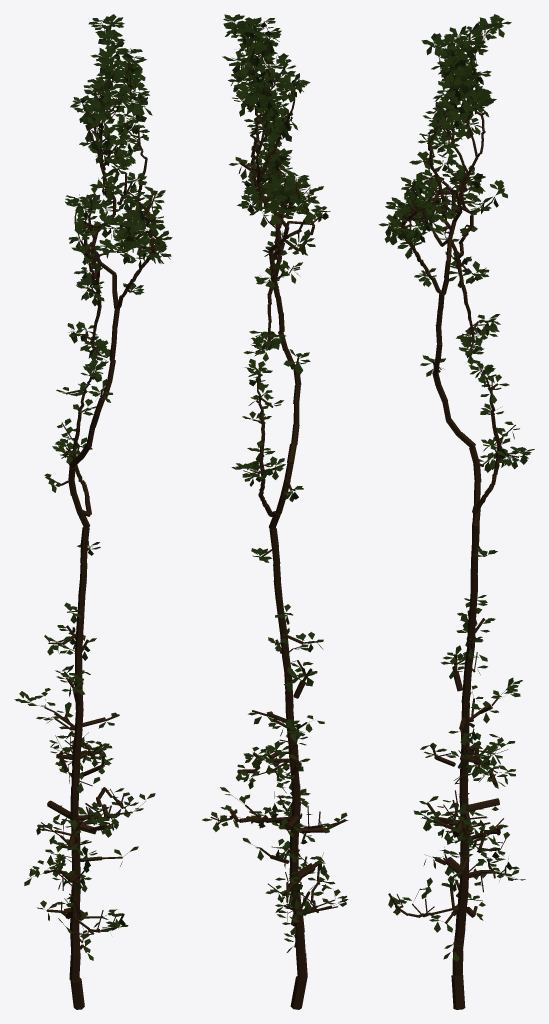
Rendered from 2022_tree_189.obj.
3 renders of one model, left to right at view 1: azimuth 30°, elevation 25°; view 2: azimuth 150°, elevation 25°; view 3: azimuth 270°, elevation 25°, orthographic. The views are drawn at different scales.
Visible parts, largest first — view 1: Leaves, TrunkAndBranches; view 2: Leaves, TrunkAndBranches; view 3: Leaves, TrunkAndBranches.
Part boxes in pixels (x1,y1,x2,y2): Leaves: (14, 14, 172, 960); TrunkAndBranches: (24, 21, 163, 1009); Leaves: (202, 14, 348, 952); TrunkAndBranches: (210, 21, 345, 1009); Leaves: (378, 14, 534, 961); TrunkAndBranches: (387, 23, 524, 1009).
Size of the model in its own units: 3.39 by 25.7 by 3.6.
